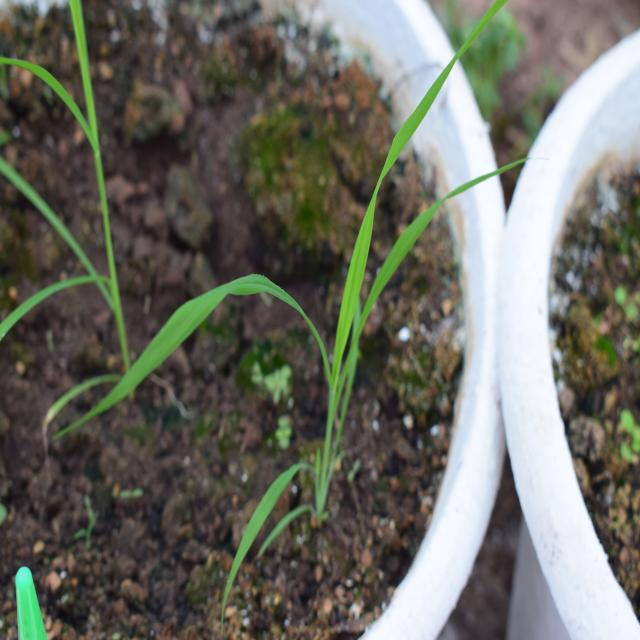barnyard_grass: (117, 58, 538, 506)
